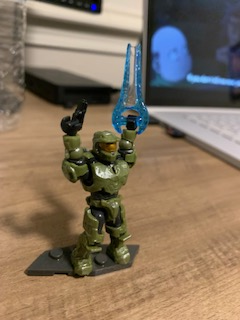chief: (59, 113, 138, 279)
pistol: (62, 100, 88, 134)
spartan: (57, 111, 136, 277)
up: (61, 114, 140, 197)
